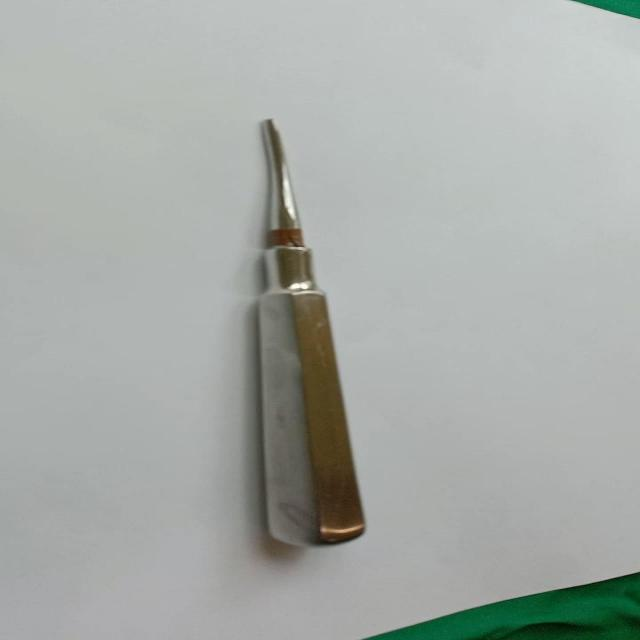Coupland1: (243, 113, 388, 555)
